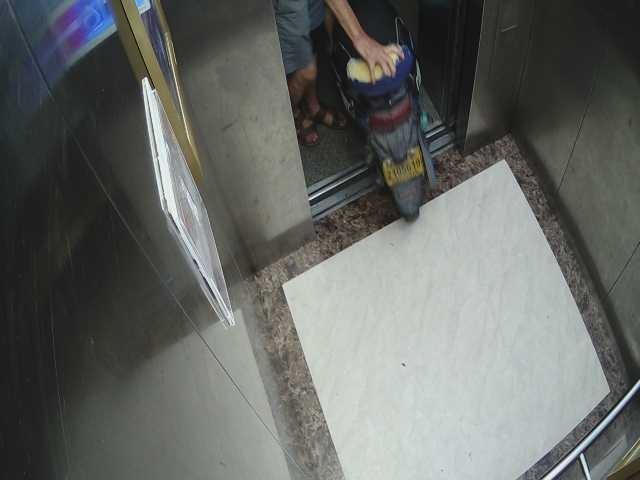emotor: (326, 5, 440, 213)
